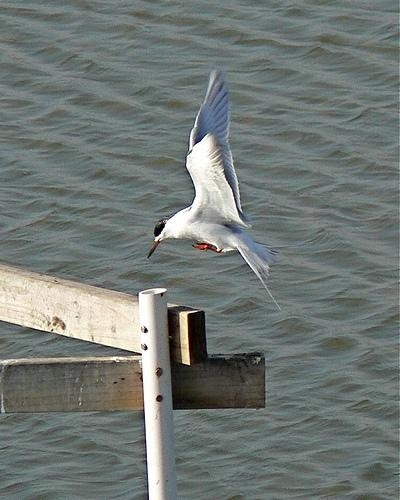bird: (144, 71, 306, 278)
